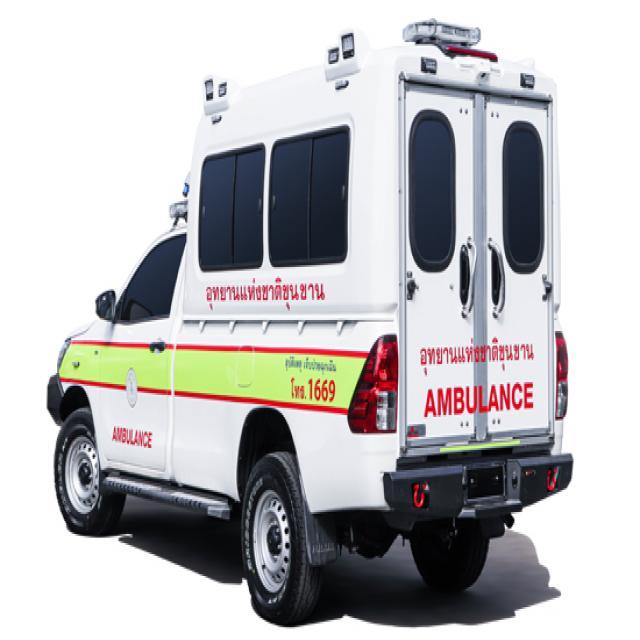emergency-vehicle: (39, 8, 580, 626)
